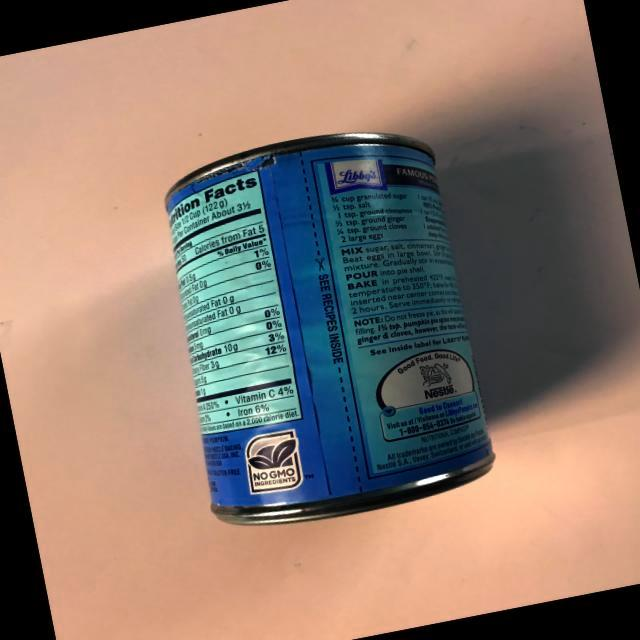metal: (137, 95, 520, 553)
